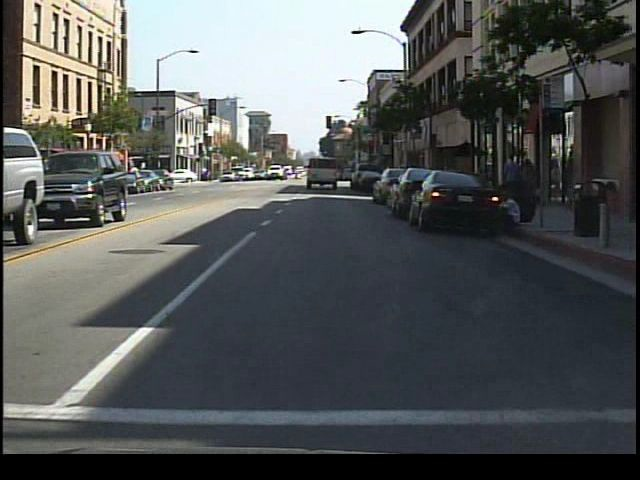person: (497, 146, 523, 212), (516, 154, 540, 211)
